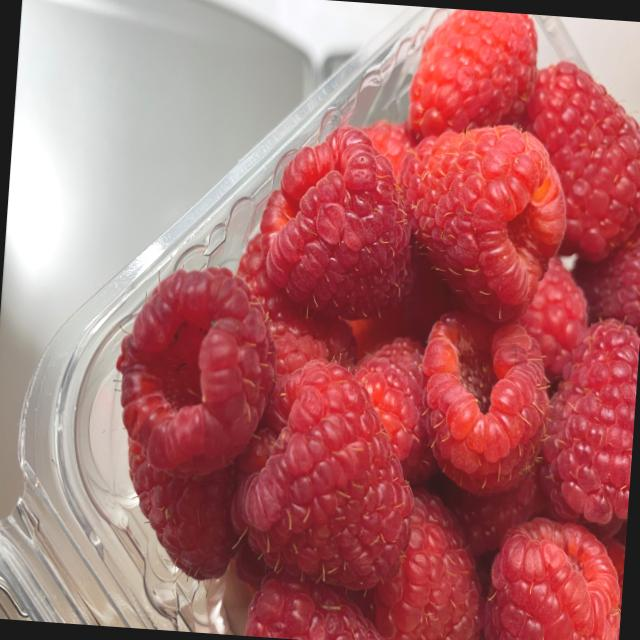raspberries: (90, 60, 640, 640)
